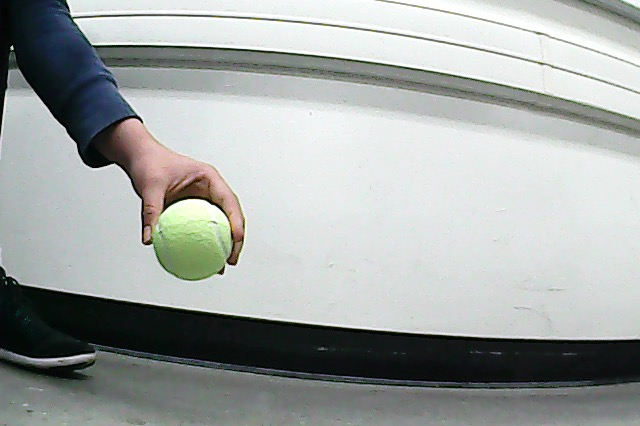ball: (153, 199, 233, 282)
